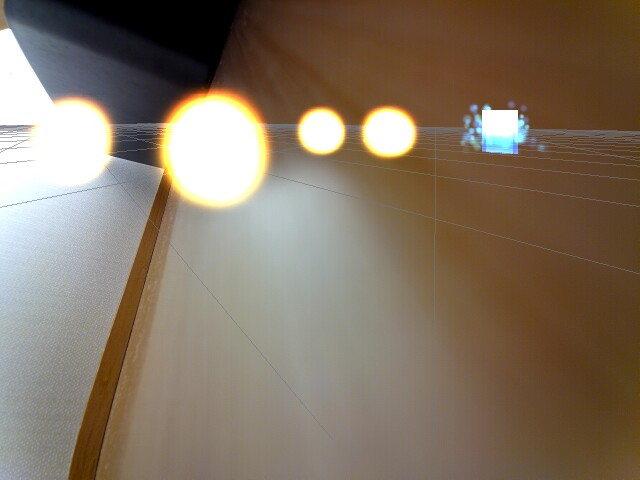firebig: (158, 87, 273, 214)
